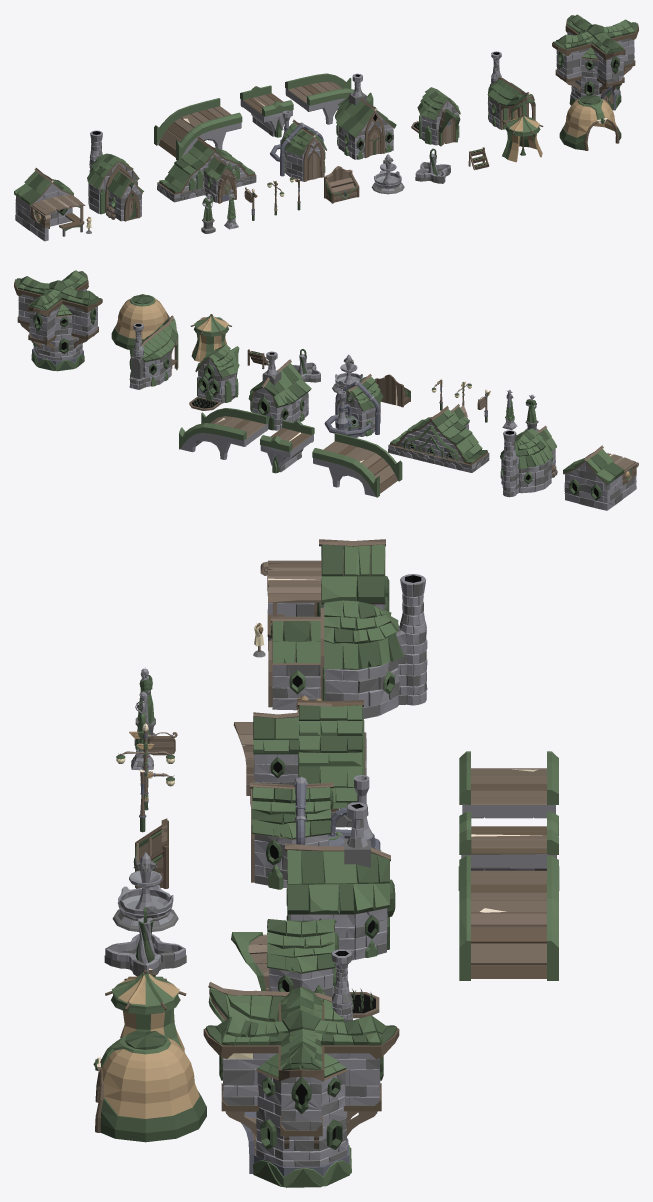
File: demo.glb
3 views of the same model, one above another, from view 1: azimuth 30°, elevation 25°; view 2: azimuth 150°, elevation 25°; view 3: azimuth 270°, elevation 25° (orthographic). The views are drawn at different scales.
Visible parts, largest first — view 1: tavern, prison, weaving_work, winery, bakkery, beidge_edge, alchemist_house, beidge_edge1, herbalist_shop, tent_2, SMITHY, bridge_middle_01 (+6 smaller); view 2: tavern, prison, weaving_work, beidge_edge, winery, bakkery, beidge_edge1, SMITHY, alchemist_house, herbalist_shop, tent_2, bridge_middle_01 (+4 smaller); view 3: tavern, winery, beidge_edge1, bakkery, prison, tent_2, weaving_work, alchemist_house, herbalist_shop, beidge_edge, bridge_middle_01, SMITHY (+4 smaller).
Part boxes in pixels (<box>): tavern: <box>552,14,638,110</box>; prison: <box>157,137,256,203</box>; weaving_work: <box>14,168,91,241</box>; winery: <box>87,130,143,221</box>; bakkery: <box>335,73,396,159</box>; beidge_edge: <box>154,98,242,160</box>; alchemist_house: <box>270,110,326,181</box>; beidge_edge1: <box>285,73,373,124</box>; herbalist_shop: <box>411,87,460,146</box>; tent_2: <box>559,95,621,150</box>; SMITHY: <box>487,51,535,129</box>; bridge_middle_01: <box>240,85,293,137</box>; tavern: <box>14,270,102,371</box>; prison: <box>388,404,489,472</box>; weaving_work: <box>563,445,638,510</box>; beidge_edge: <box>312,433,402,497</box>; winery: <box>500,425,557,497</box>; bakkery: <box>248,351,311,430</box>; beidge_edge1: <box>179,408,268,459</box>; SMITHY: <box>129,315,178,389</box>; alchemist_house: <box>324,374,383,437</box>; herbalist_shop: <box>189,344,239,410</box>; tent_2: <box>111,294,169,349</box>; bridge_middle_01: <box>260,420,314,473</box>; tavern: <box>203,986,399,1187</box>; winery: <box>268,574,427,718</box>; beidge_edge1: <box>459,855,558,980</box>; bakkery: <box>285,802,395,960</box>; prison: <box>233,700,366,827</box>; tent_2: <box>93,1031,206,1142</box>; weaving_work: <box>253,539,389,657</box>; alchemist_house: <box>250,775,381,889</box>; herbalist_shop: <box>231,919,379,1018</box>; beidge_edge: <box>459,751,558,818</box>; bridge_middle_01: <box>458,811,559,890</box>; SMITHY: <box>208,949,352,1023</box>.
Size of the model in its own units: 26.83 by 3.34 by 8.98.
Materials: 1 (1 with a texture image).
